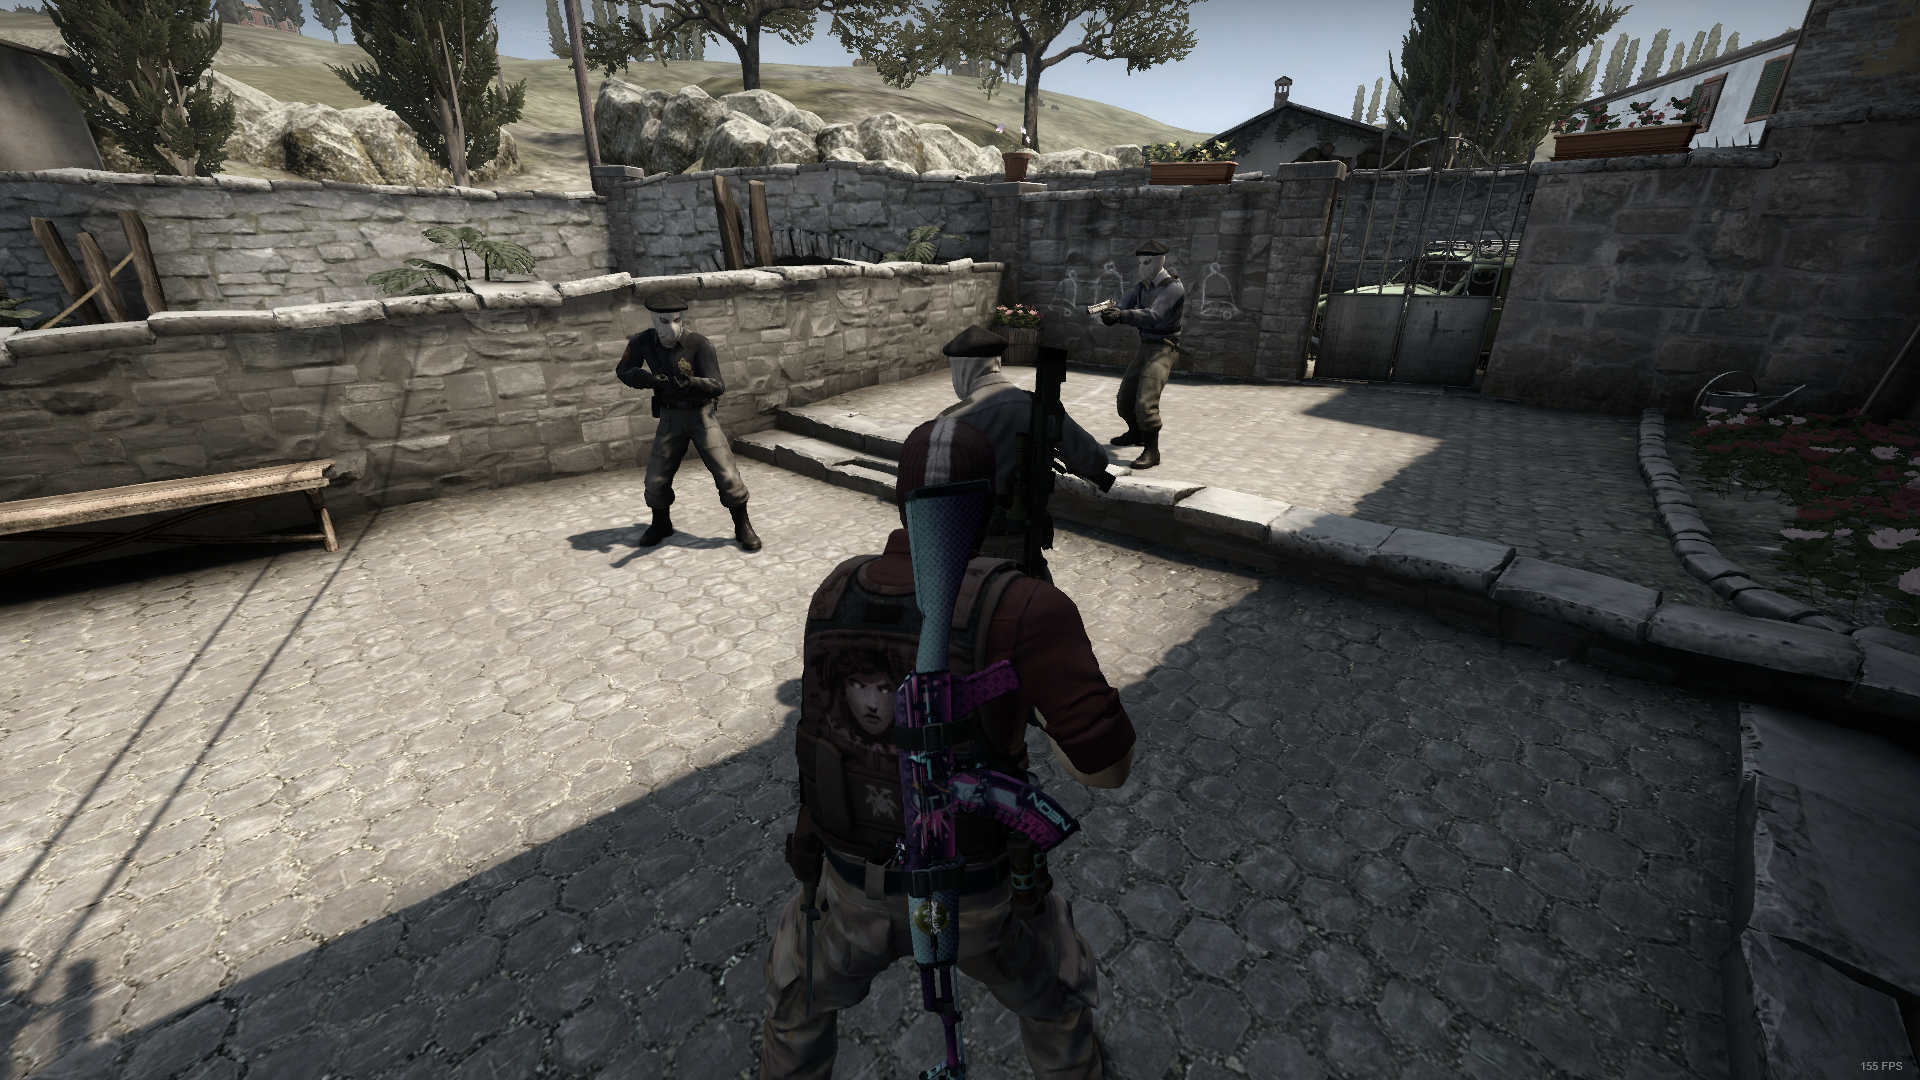t: (894, 323, 1112, 589), (603, 291, 778, 551), (1101, 239, 1189, 471)
